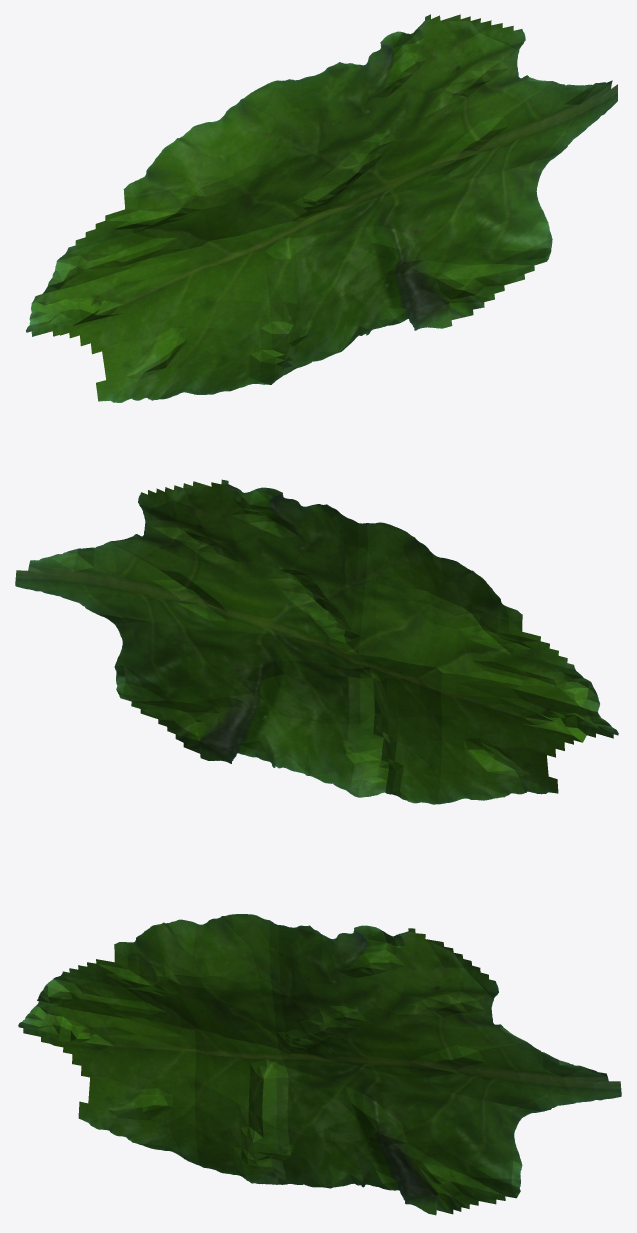
The model's file is SugarBeetLeaf.obj.
3 views of the same model, one above another, from view 1: azimuth 30°, elevation 25°; view 2: azimuth 150°, elevation 25°; view 3: azimuth 330°, elevation 25° (orthographic). The views are drawn at different scales.
Visible parts, largest first — view 1: leaf; view 2: leaf; view 3: leaf.
Boxes of the visible parts, x1=… form: leaf: x1=26, y1=14, x2=617, y2=402; leaf: x1=15, y1=479, x2=618, y2=804; leaf: x1=18, y1=914, x2=621, y2=1215.
Bounding box in the file's own units: 0.9896 × 0.5238 × 0.1262.
